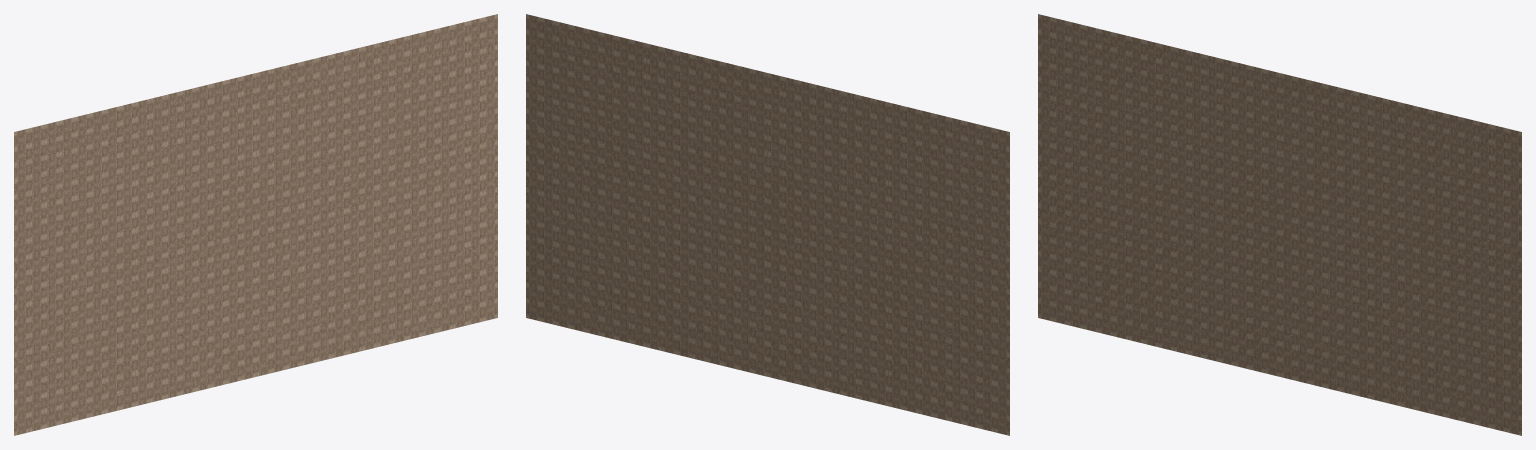
File: Flag_AsStaticMesh.fbx
The picture shows the model from 3 angles, left to right: view 1: azimuth 30°, elevation 25°; view 2: azimuth 150°, elevation 25°; view 3: azimuth 330°, elevation 25°; orthographic projection.
Visible parts, largest first — view 1: Flag_AsStaticMesh; view 2: Flag_AsStaticMesh; view 3: Flag_AsStaticMesh.
Part boxes in pixels (x1,y1,x2,y2): Flag_AsStaticMesh: (14,14,497,435); Flag_AsStaticMesh: (526,14,1009,435); Flag_AsStaticMesh: (1038,14,1521,435).
Bounding box in the file's own units: 200 × 1.15e-05 × 120.
